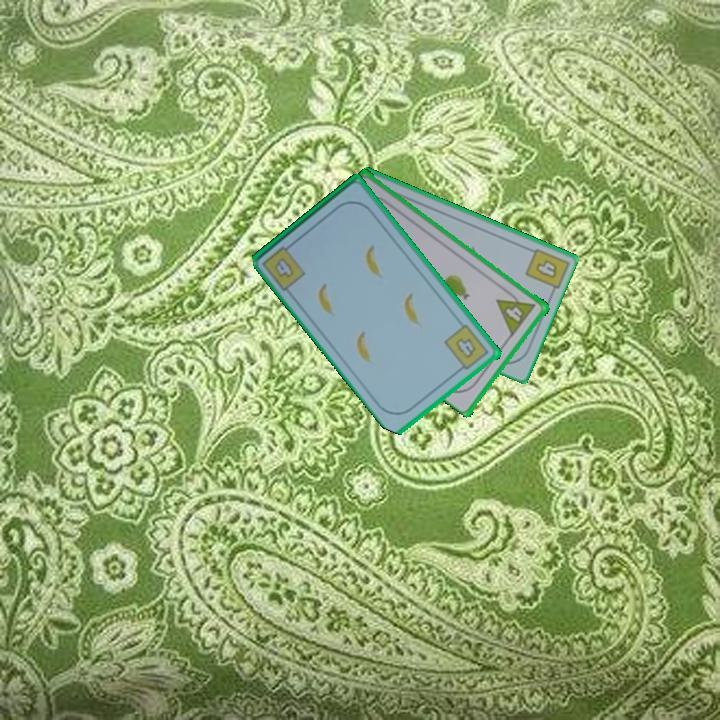4b: (441, 321, 492, 375), (259, 238, 309, 293), (532, 256, 561, 281)
4p: (493, 298, 528, 337)
